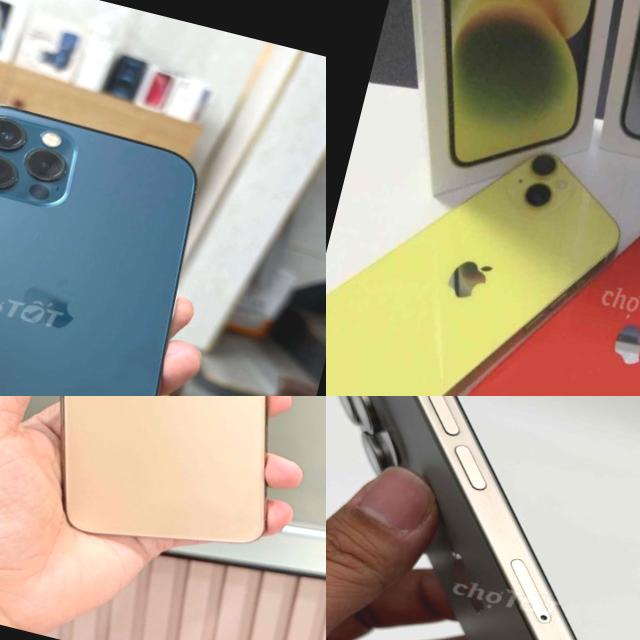gen_11: (59, 396, 267, 540)
gen_12_13: (0, 91, 227, 396)
gen_15: (326, 396, 640, 640)
